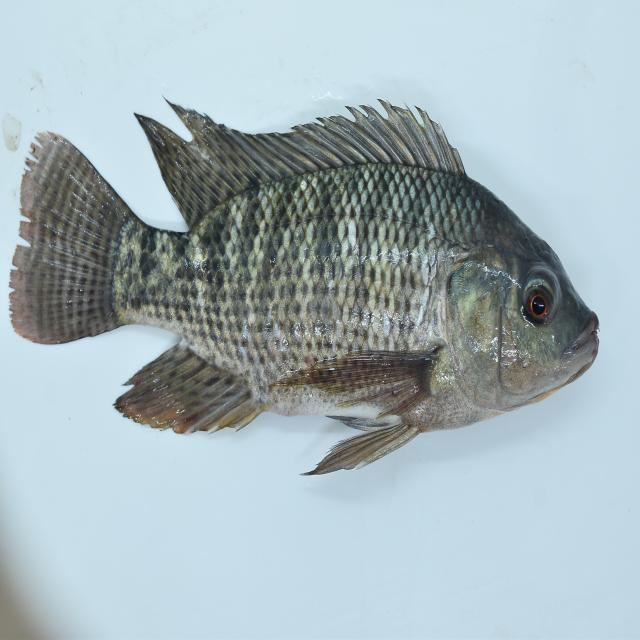Columnaris Disease: (6, 100, 606, 486)
